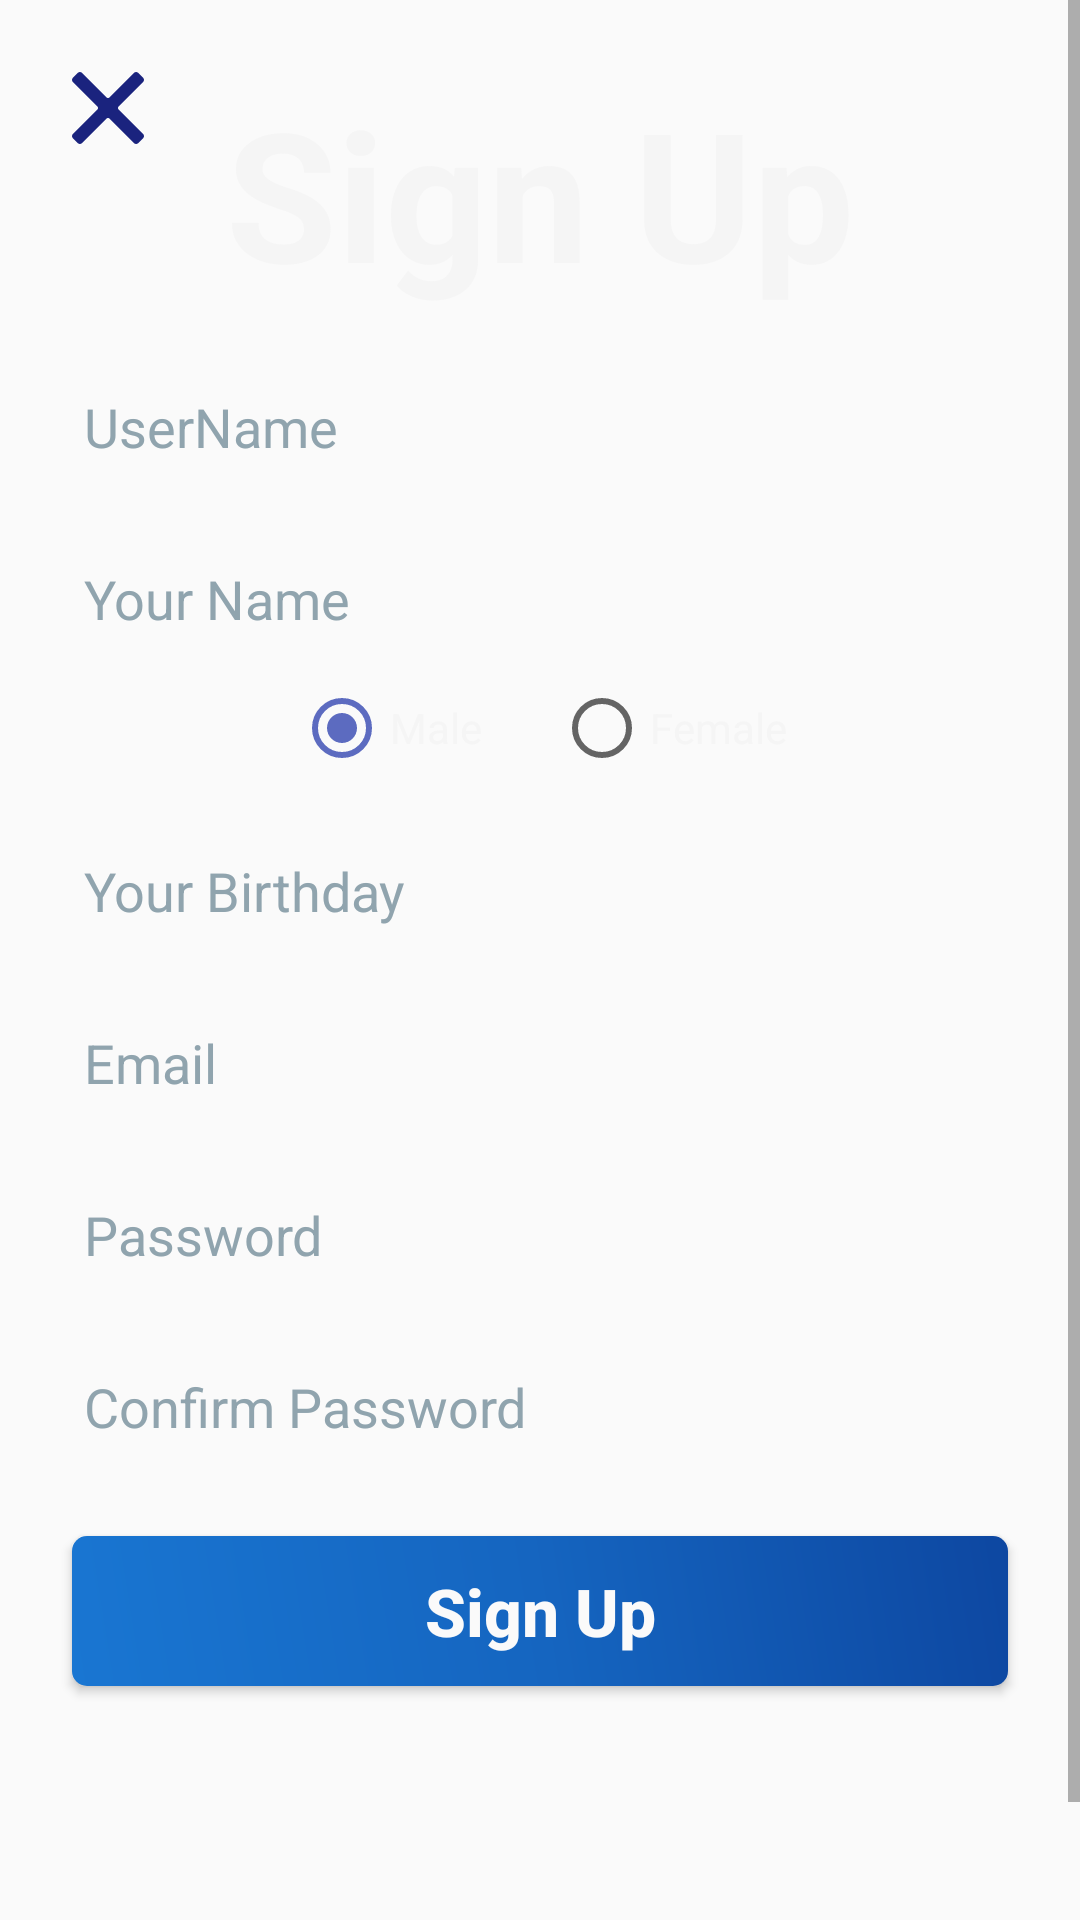

Screen size 1080px×1920px. Icon name, then its box in pixels as (x1, y1, x2, y2):
cancel: (72, 72, 144, 144)
